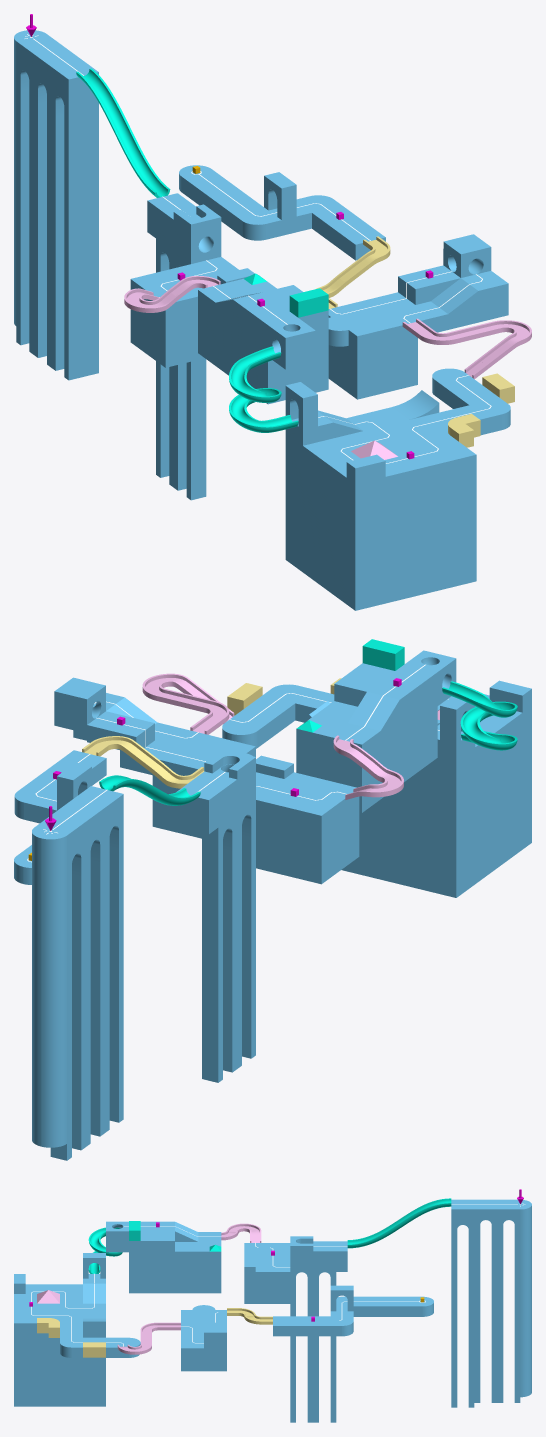
Rendered from level_ramps.glb.
The picture shows the model from 3 angles, top to bottom: view 1: azimuth 30°, elevation 25°; view 2: azimuth 150°, elevation 25°; view 3: azimuth 270°, elevation 25°; orthographic projection. The views are drawn at different scales.
Visible parts, largest first — view 1: block_8x8x8, arch_support, block_4x4x4__1_, block_4x4x4, block_4x4x1__30_, arch_support__1_, arch_support__2_, arch_support__6_, arch_support__4_, block_4x4x4__2_, half_pipe_spiral, half_pipe_straight_2 (+28 smaller); view 2: block_8x8x8, block_4x4x1__30_, block_1x1x1_corner__1_, arch_support__3_, block_4x4x4, block_4x4x4__2_, arch_support__2_, arch_support__1_, arch_support, arch_support__6_, block_4x4x4__1_, block_1x1x1_corner_1 (+34 smaller); view 3: block_8x8x8, block_4x4x4, block_4x4x4__2_, arch_support__4_, arch_support__1_, arch_support__2_, block_1x1x1_corner_1, block_4x4x1__30_, arch_support__6_, arch_support__3_, block_4x4x4__1_, block_2x2x1 (+23 smaller).
Part boxes in pixels (x1,y1,x2,y2): block_8x8x8: [285, 407, 476, 610]; arch_support: [51, 114, 83, 380]; block_4x4x4__1_: [328, 296, 417, 399]; block_4x4x4: [233, 285, 328, 404]; block_4x4x1__30_: [130, 264, 207, 367]; arch_support__1_: [33, 102, 51, 367]; arch_support__2_: [16, 89, 33, 354]; arch_support__6_: [173, 358, 206, 500]; arch_support__4_: [84, 120, 98, 376]; block_4x4x4__2_: [198, 279, 276, 375]; half_pipe_spiral: [229, 346, 298, 432]; half_pipe_straight_2: [76, 68, 170, 197]; block_8x8x8: [341, 694, 531, 897]; block_4x4x1__30_: [256, 772, 359, 884]; block_1x1x1_corner__1_: [41, 832, 66, 1147]; arch_support__3_: [202, 848, 237, 1082]; block_4x4x4: [334, 663, 437, 781]; block_4x4x4__2_: [296, 701, 399, 812]; arch_support__2_: [50, 873, 85, 1160]; arch_support__1_: [86, 859, 104, 1146]; arch_support: [105, 845, 123, 1132]; arch_support__6_: [237, 834, 255, 1068]; block_4x4x4__1_: [152, 730, 255, 838]; block_1x1x1_corner_1: [32, 827, 49, 1146]; block_8x8x8: [14, 1284, 105, 1406]; block_4x4x4: [129, 1221, 174, 1293]; block_4x4x4__2_: [175, 1232, 221, 1293]; arch_support__4_: [451, 1240, 474, 1407]; arch_support__1_: [474, 1236, 497, 1402]; arch_support__2_: [497, 1236, 520, 1402]; block_1x1x1_corner_1: [520, 1204, 531, 1397]; block_4x4x1__30_: [244, 1243, 290, 1303]; arch_support__6_: [290, 1288, 313, 1422]; arch_support__3_: [313, 1288, 336, 1422]; block_4x4x4__1_: [181, 1310, 226, 1371]; block_2x2x1: [313, 1241, 347, 1271].
Size of the model in its own units: 22.01 by 22.36 by 45.
